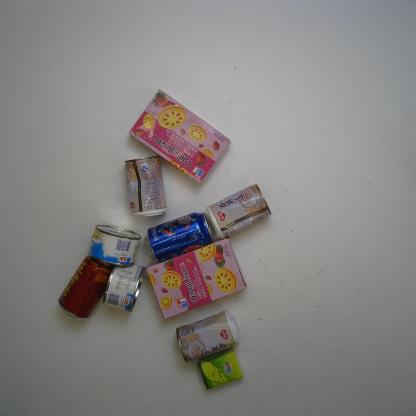Canned Food: (171, 309, 240, 360), (205, 181, 270, 235), (121, 151, 171, 219), (85, 221, 147, 270), (102, 257, 146, 317)
Dessert: (127, 88, 232, 181), (142, 237, 251, 322)
Drink: (144, 211, 210, 263), (58, 255, 108, 323)
Tissue: (196, 345, 242, 391)
